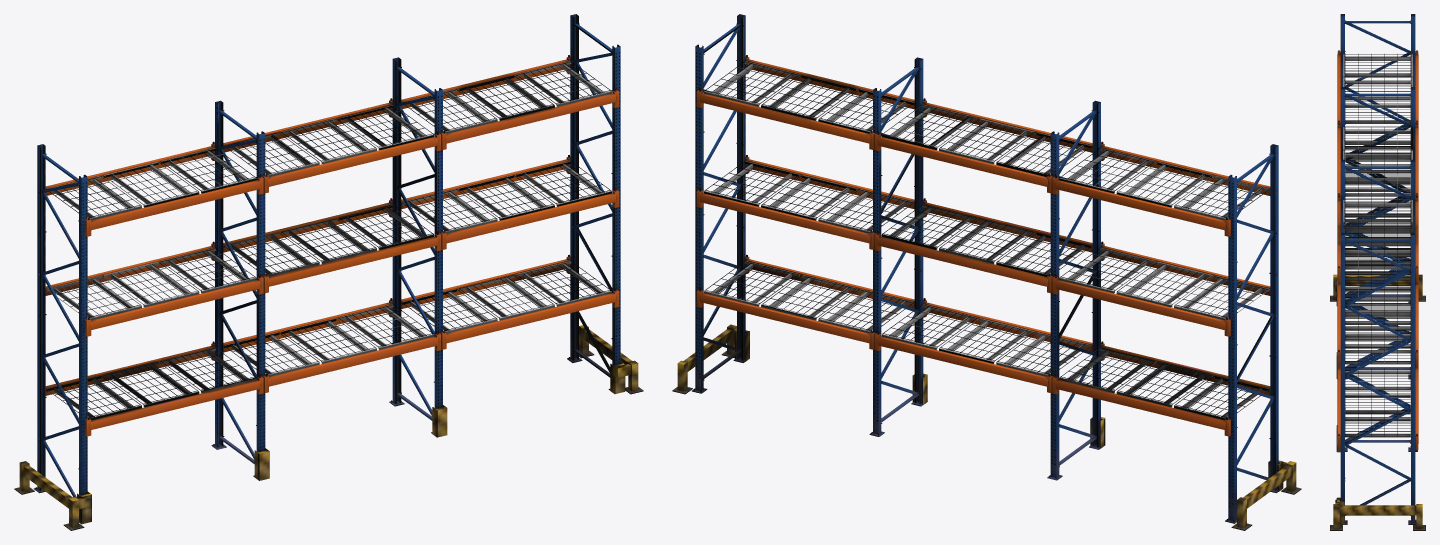
Rendered from steel-pallet-rack-v1-lod0.glb.
3 renders of one model, left to right at view 1: azimuth 30°, elevation 25°; view 2: azimuth 150°, elevation 25°; view 3: azimuth 270°, elevation 25°, orthographic. The views are drawn at different scales.
Parts seen in each view (by area): view 1: body; view 2: body; view 3: body.
Boxes of the visible parts, x1,y1,x2,y2 form: body: (14,14,643,530); body: (672,14,1301,530); body: (1330,14,1425,530).
Bounding box in the file's own units: 8.7 × 5 × 1.5.
Materials: 1 (1 with a texture image).
